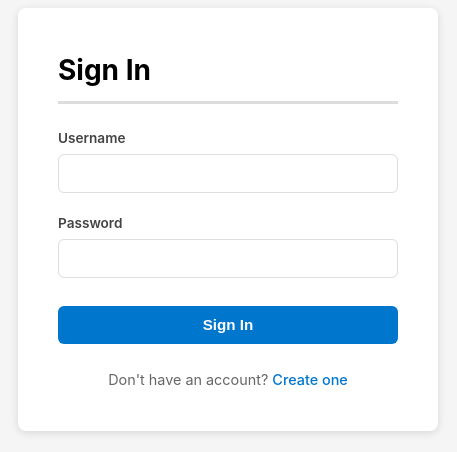
Scenario: LoginPage › disables button and shows loading text while submitting
In the field labelled "Username": (228, 174) [58, 154, 398, 193], type "alice"
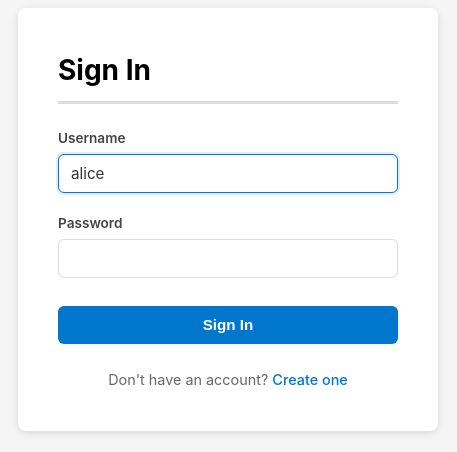
In the password field labelled "Password": (228, 259) [58, 240, 398, 278], type "pass"
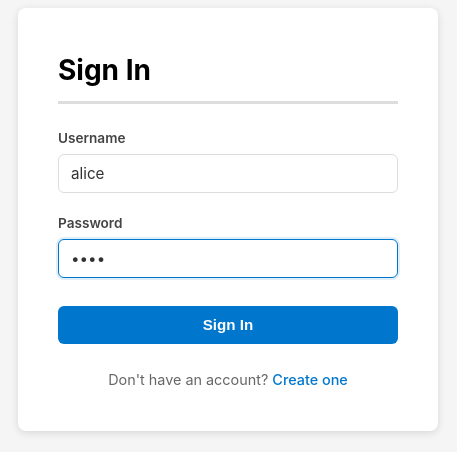
Click the button "Sign In": click(228, 325) [58, 306, 398, 344]
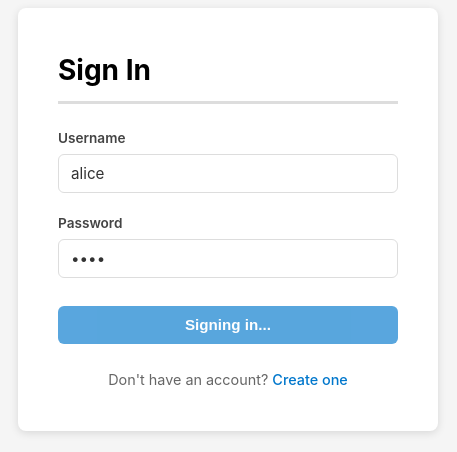
Now the button "Signing in..." is disabled, box [58, 306, 398, 344]
